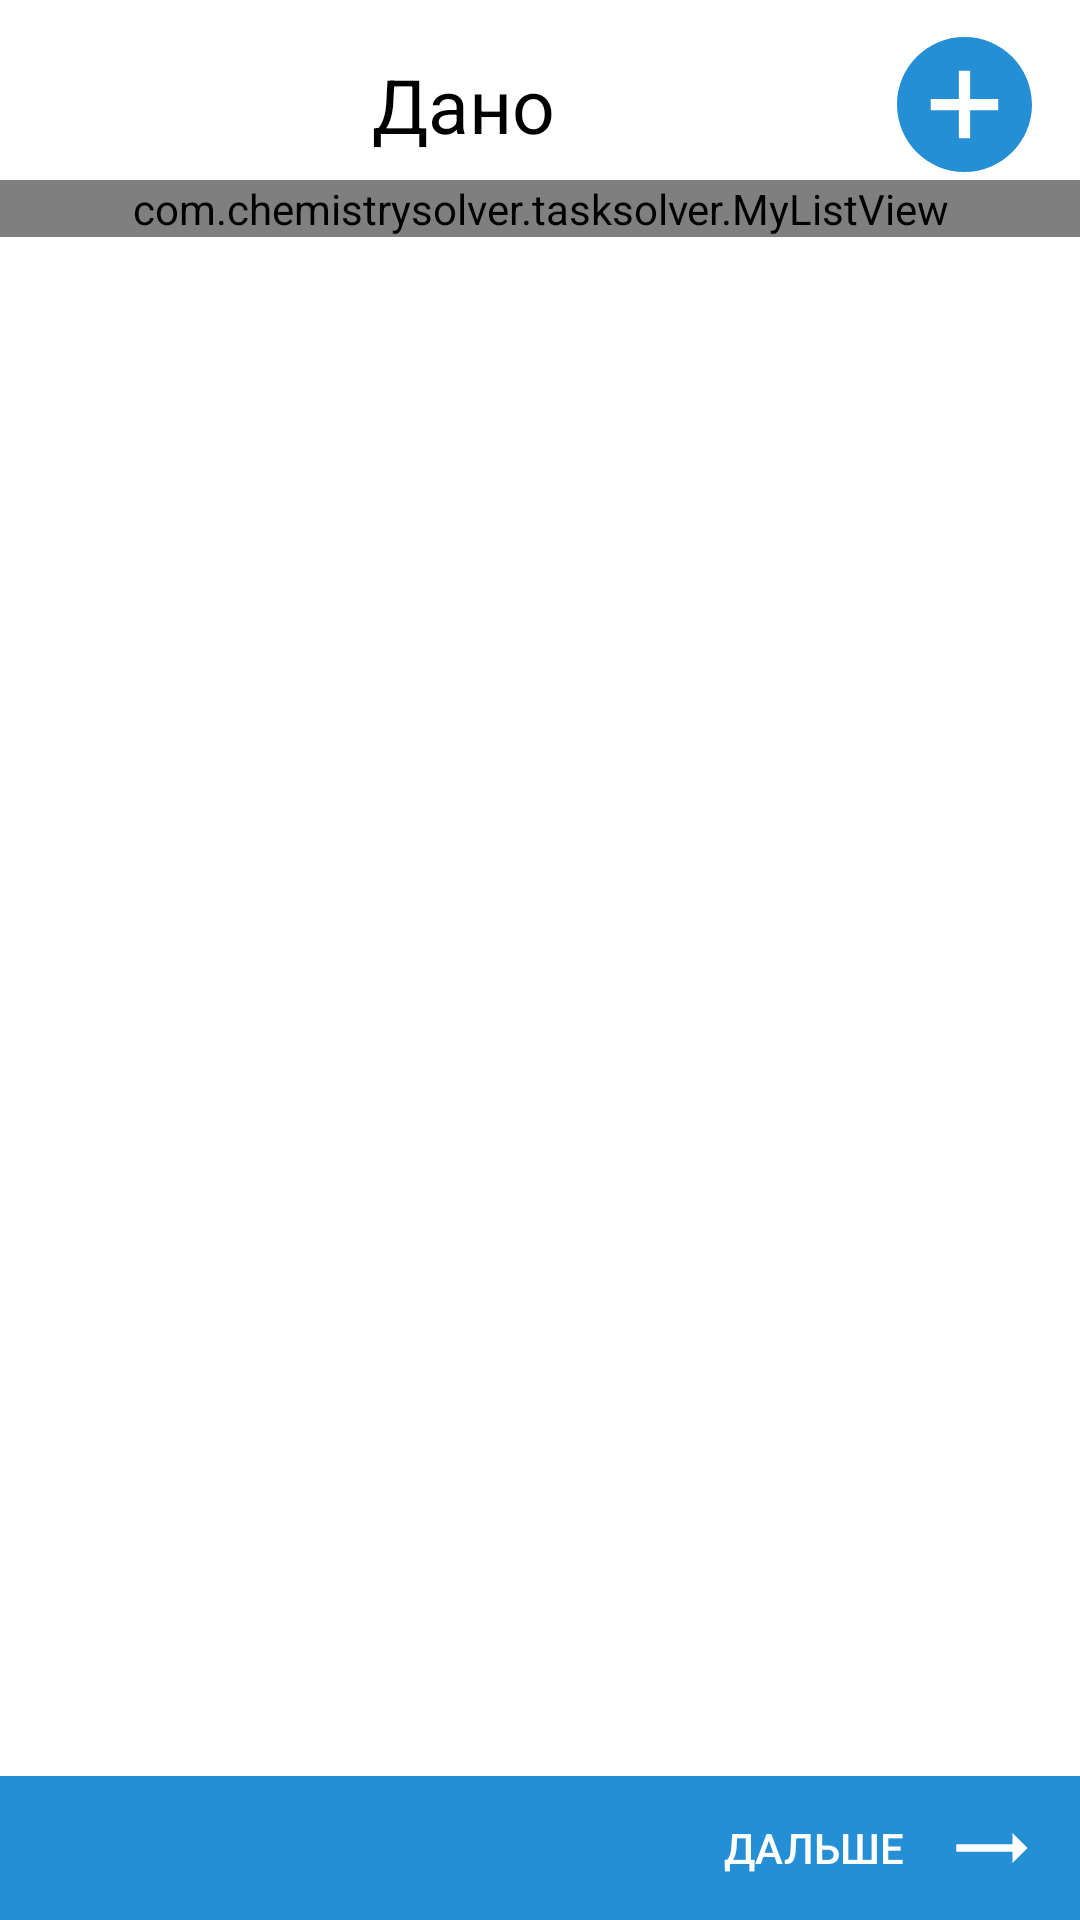

Screen size 1080 x 1920. Icon name, then its center in pixels as point (x, y):
next: point (992, 1848)
plus: point (964, 104)
